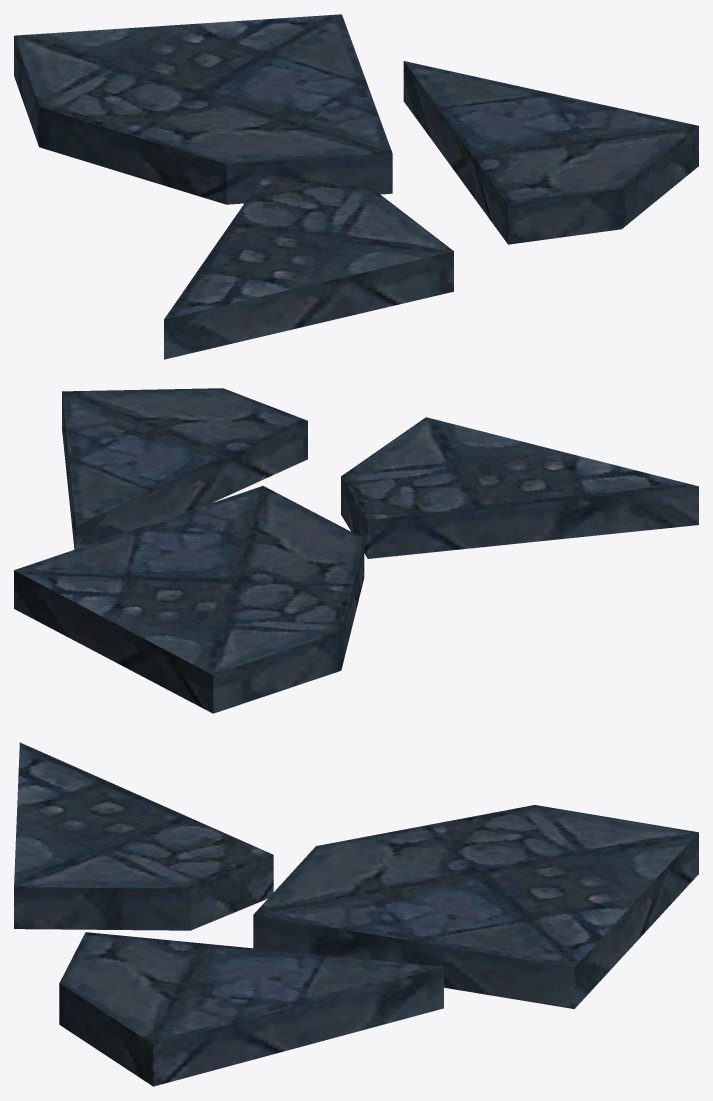
File: Ice_stoneBK01.FBX
The picture shows the model from 3 angles, top to bottom: view 1: azimuth 30°, elevation 25°; view 2: azimuth 150°, elevation 25°; view 3: azimuth 270°, elevation 25°; orthographic projection. The views are drawn at different scales.
Parts seen in each view (by area): view 1: Object15910; view 2: Object15910; view 3: Object15910.
Boxes of the visible parts, x1,y1,x2,y2 form: Object15910: (14,14,698,359); Object15910: (14,388,698,713); Object15910: (14,742,698,1086).
Bounding box in the file's own units: 474 × 30.46 × 454.
